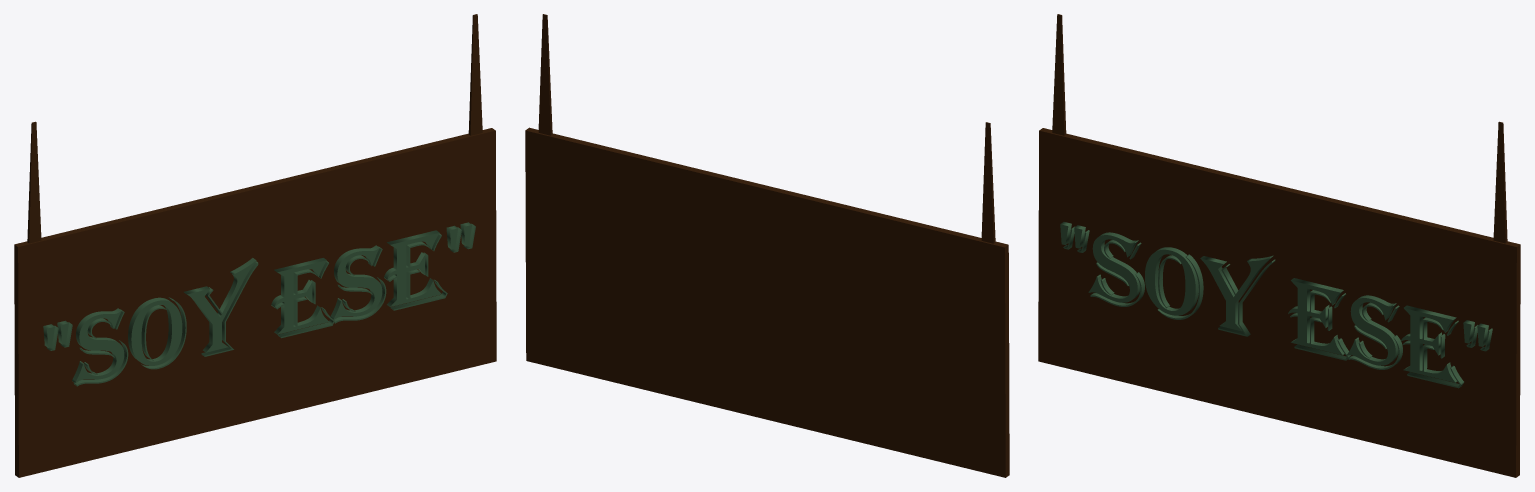
The model's file is Cartel.glb.
The picture shows the model from 3 angles, left to right: view 1: azimuth 30°, elevation 25°; view 2: azimuth 150°, elevation 25°; view 3: azimuth 330°, elevation 25°; orthographic projection.
Visible parts, largest first — view 1: Texto; view 2: Texto; view 3: Texto.
Part boxes in pixels (left/top/right/bottom): Texto: left=14, top=14, right=496, bottom=477; Texto: left=525, top=14, right=1009, bottom=477; Texto: left=1038, top=14, right=1520, bottom=477.
Bounding box in the file's own units: 4.34 × 3.03 × 0.1206.
